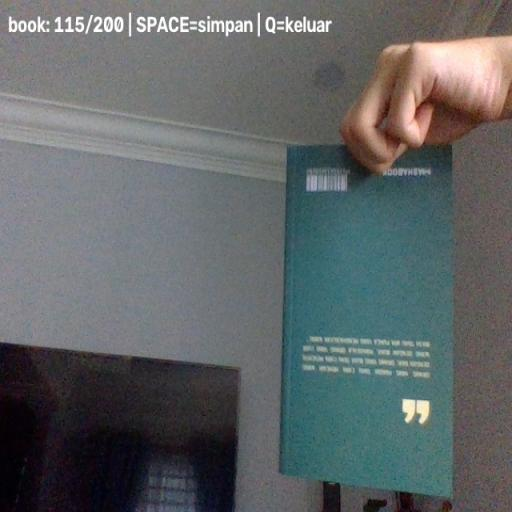Book: (280, 144, 454, 496)
